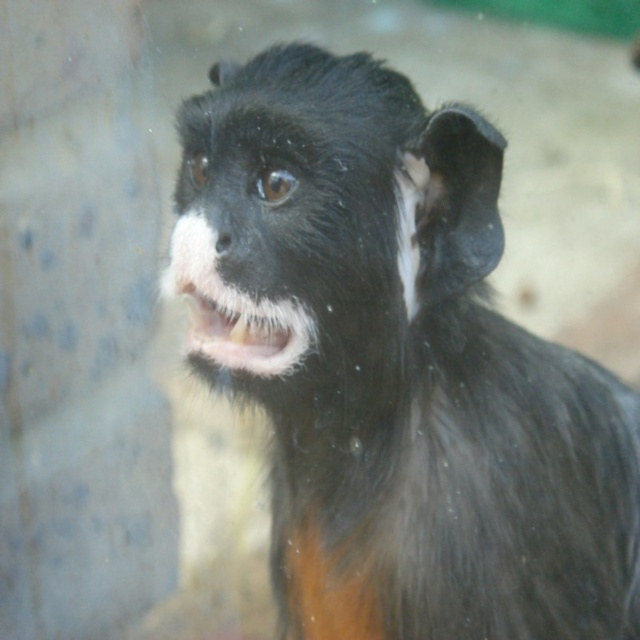Monkey: (170, 44, 634, 640)
